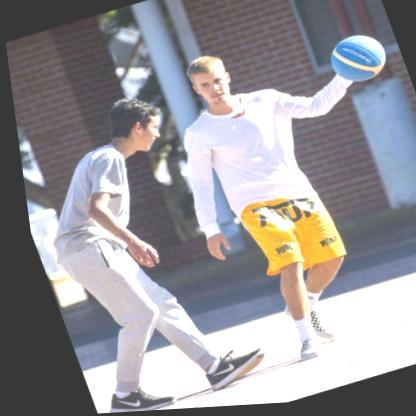basketball: (323, 34, 392, 93)
